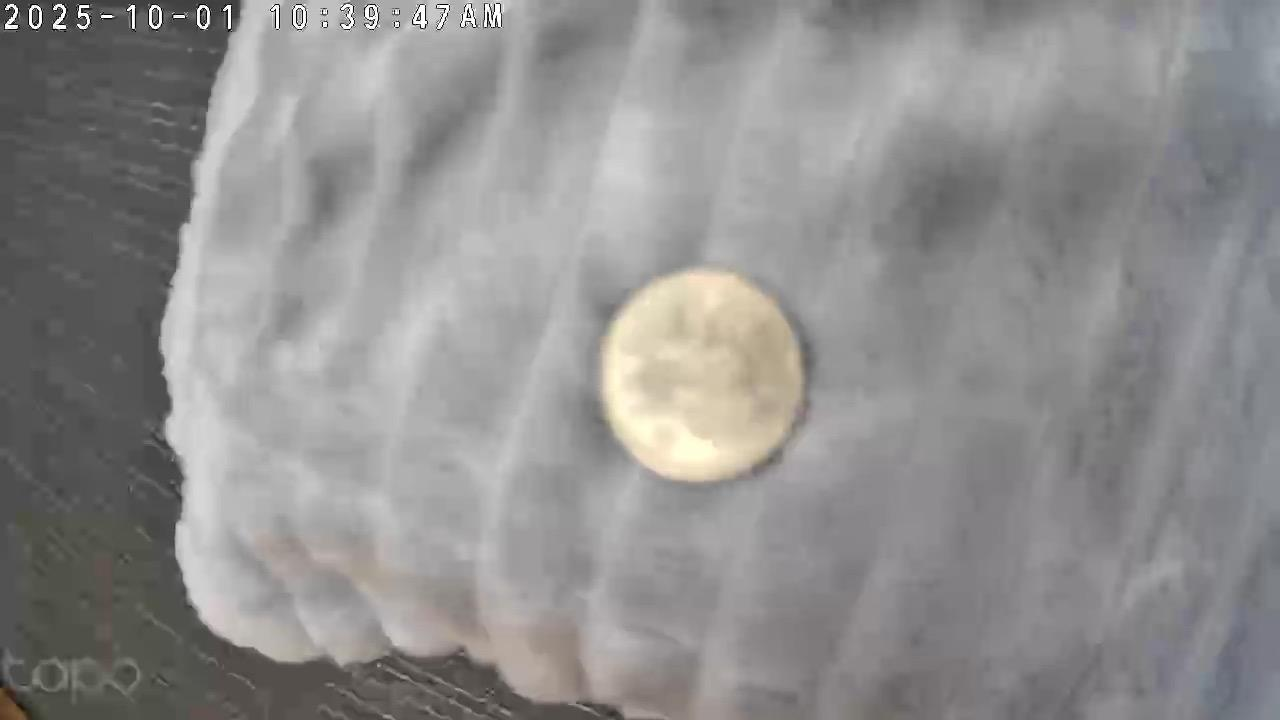coin: (592, 261, 816, 490)
